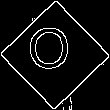O_S: (33, 29, 77, 81)
